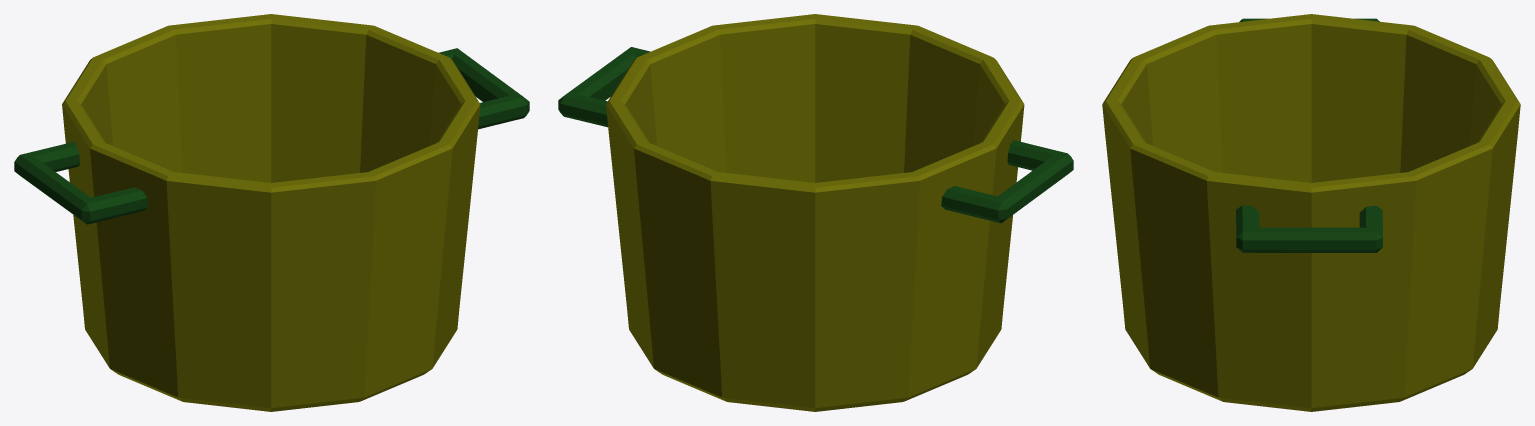
File: Kitchen_SmallProps_Saucepan.fbx
3 views of the same model, side by side, from view 1: azimuth 30°, elevation 25°; view 2: azimuth 150°, elevation 25°; view 3: azimuth 270°, elevation 25° (orthographic).
Parts seen in each view (by area): view 1: pan; view 2: pan; view 3: pan.
Boxes of the visible parts, x1,y1,x2,y2 form: pan: (14,14,529,411); pan: (558,14,1073,411); pan: (1102,14,1520,411).
Size of the model in its own units: 34.2 by 17.24 by 27.65.
